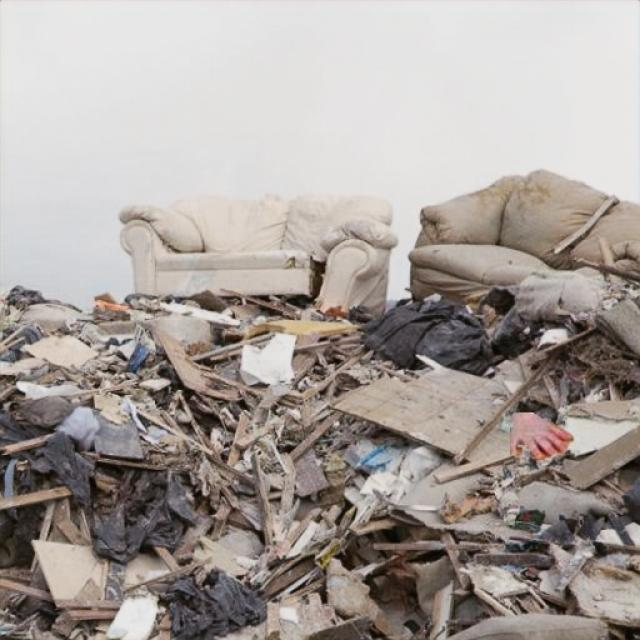Person in Rubble: (510, 412, 572, 458)
